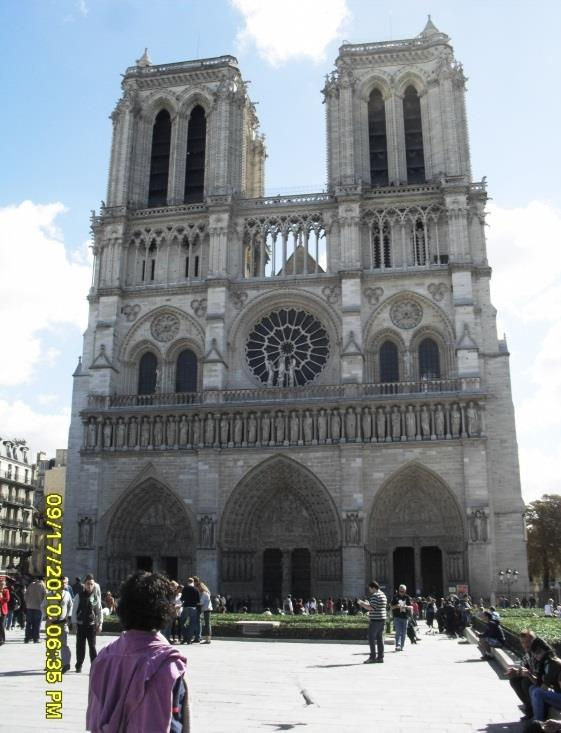Notre_Dame_de_Paris: (61, 19, 525, 607)
